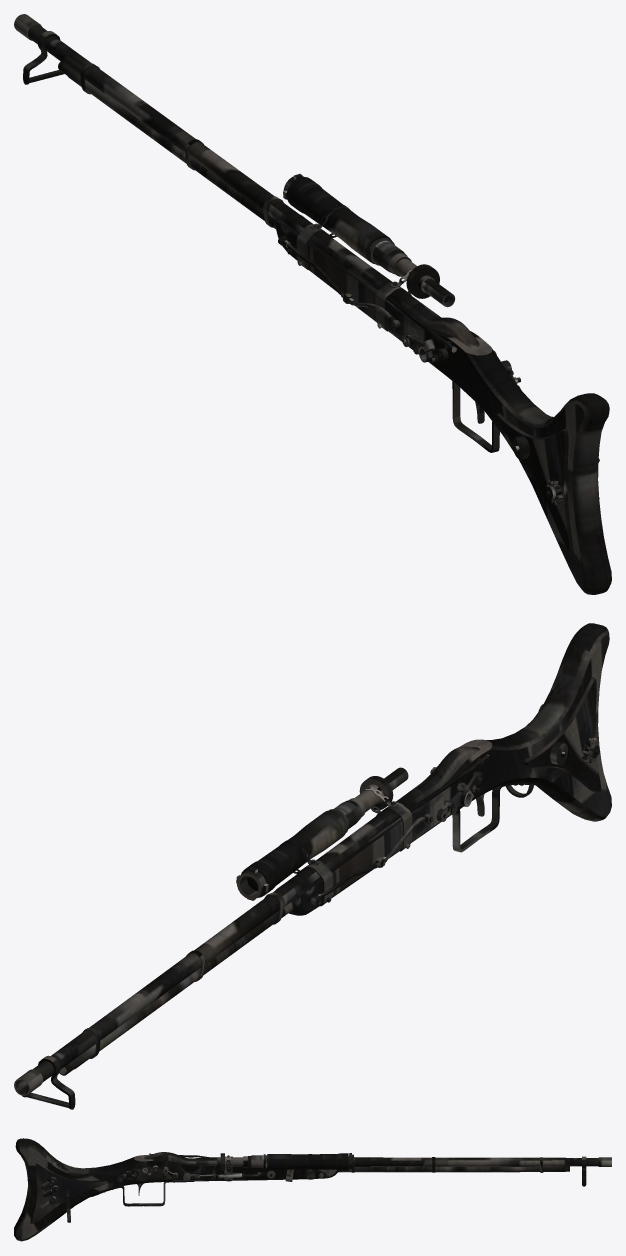
The picture shows the model from 3 angles, top to bottom: view 1: azimuth 30°, elevation 25°; view 2: azimuth 150°, elevation 25°; view 3: azimuth 270°, elevation 25°; orthographic projection. The views are drawn at different scales.
Visible parts, largest first — view 1: mesh_0; view 2: mesh_0; view 3: mesh_0.
Part boxes in pixels (<box>): mesh_0: <box>14,14,611,594</box>; mesh_0: <box>14,623,611,1109</box>; mesh_0: <box>14,1138,611,1241</box>.
Size of the model in its own units: 3.87 by 10.38 by 56.26.
1 material, 1 textured.
